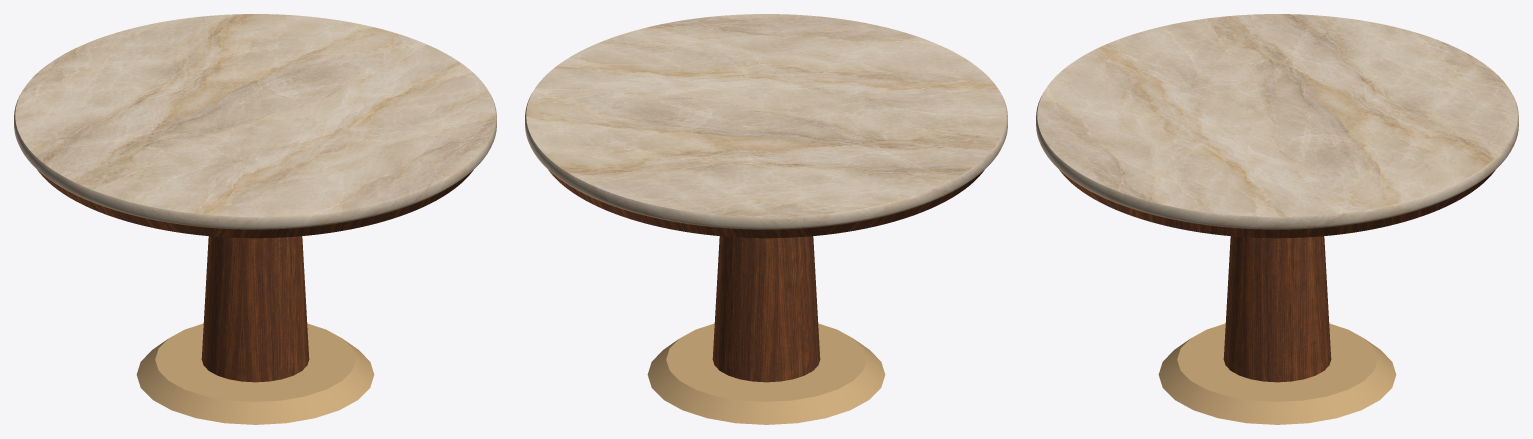
File: SaloonRoundTableFor4.glb
3 views of the same model, side by side, from view 1: azimuth 30°, elevation 25°; view 2: azimuth 150°, elevation 25°; view 3: azimuth 270°, elevation 25° (orthographic).
Parts seen in each view (by area): view 1: Champagne edge.008; view 2: Champagne edge.008; view 3: Champagne edge.008.
Part boxes in pixels (x1,y1,x2,y2): Champagne edge.008: [14, 14, 496, 424]; Champagne edge.008: [525, 14, 1007, 424]; Champagne edge.008: [1036, 14, 1518, 424].
Size of the model in its own units: 1.3 by 0.77 by 1.3.
3 materials, 2 textured.
